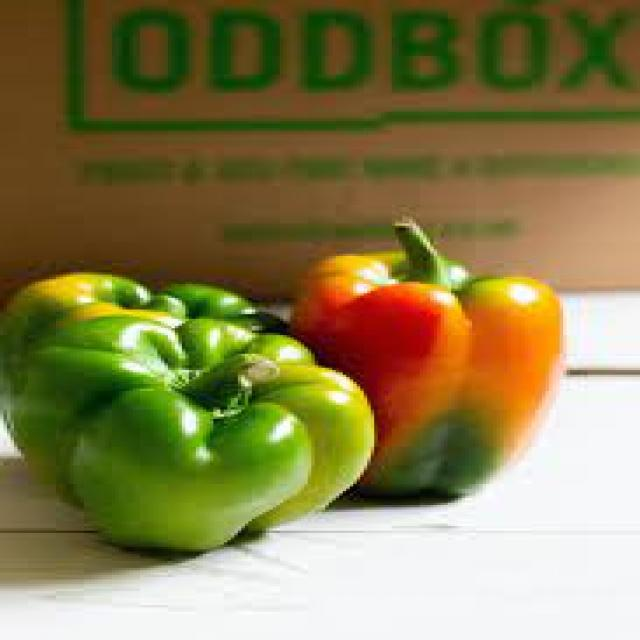Pepper: (0, 274, 375, 553), (289, 223, 566, 502)
